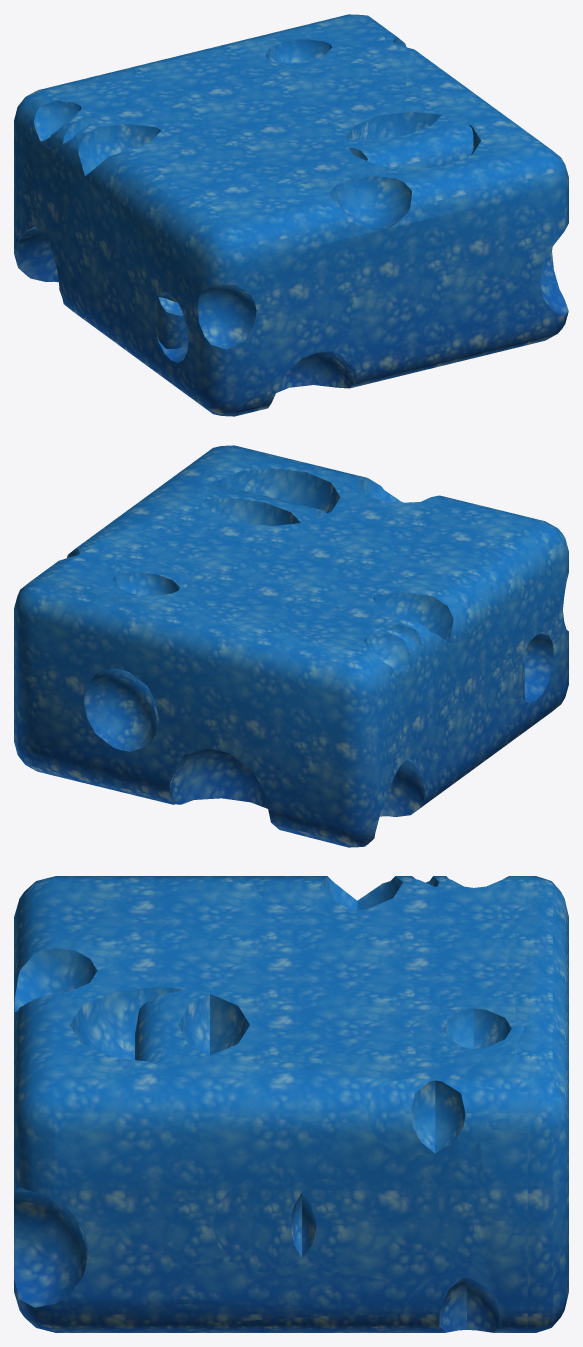
File: BushVariants.fbx
3 views of the same model, one above another, from view 1: azimuth 30°, elevation 25°; view 2: azimuth 150°, elevation 25°; view 3: azimuth 270°, elevation 25° (orthographic). The views are drawn at different scales.
Parts seen in each view (by area): view 1: BushSmall, BushSmall2; view 2: BushSmall, BushSmall2; view 3: BushSmall, BushSmall2.
Part boxes in pixels (x1,y1,x2,y2): BushSmall: [16, 18, 568, 416]; BushSmall2: [14, 14, 473, 379]; BushSmall: [31, 445, 568, 844]; BushSmall2: [14, 484, 524, 847]; BushSmall: [14, 876, 527, 1332]; BushSmall2: [135, 876, 568, 1332].
Size of the model in its own units: 252 by 125 by 252.
